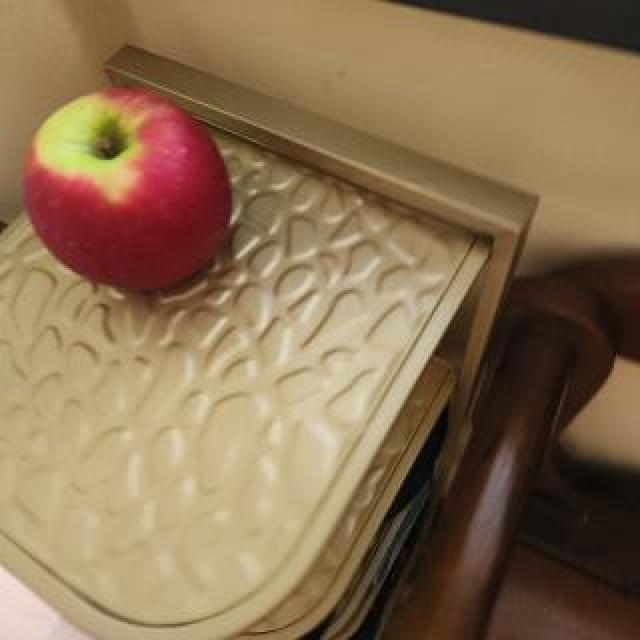Fresh Apple: (24, 93, 229, 300)
